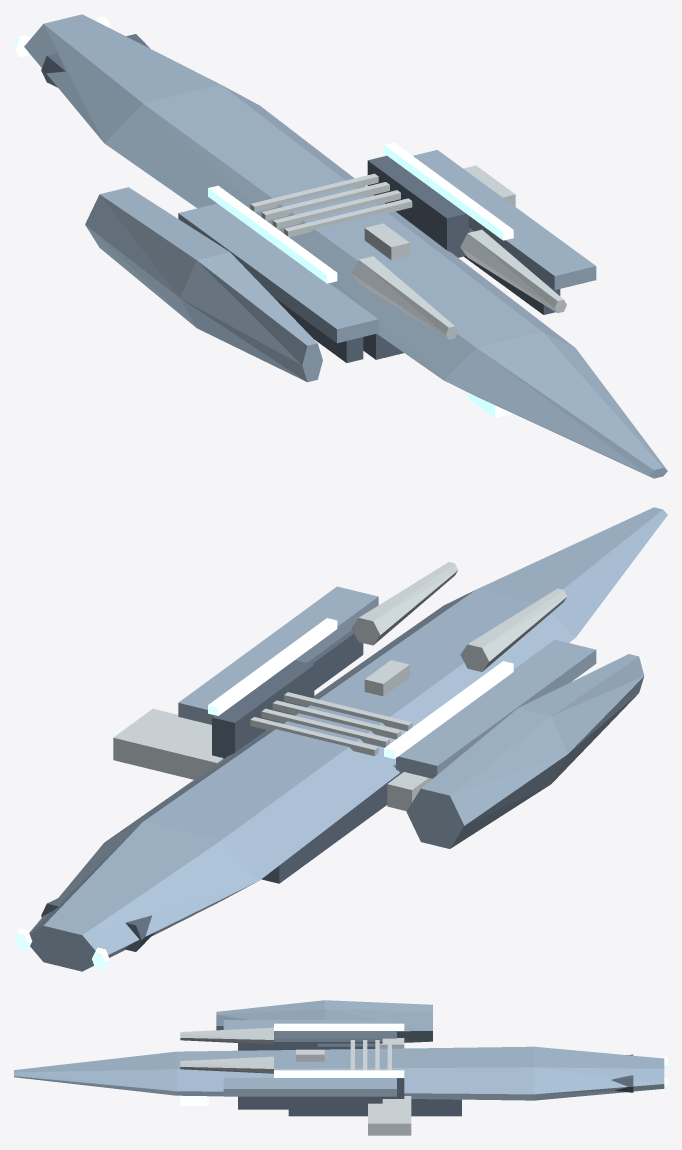
The picture shows the model from 3 angles, top to bottom: view 1: azimuth 30°, elevation 25°; view 2: azimuth 150°, elevation 25°; view 3: azimuth 270°, elevation 25°; orthographic projection. The views are drawn at different scales.
Bounding box in the file's own units: 6.15 × 1.84 × 17.01.
